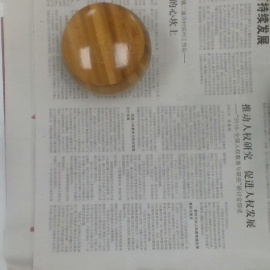chess: (63, 2, 152, 98)
